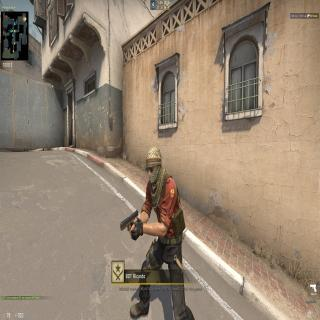T-Head: (144, 143, 163, 184)
